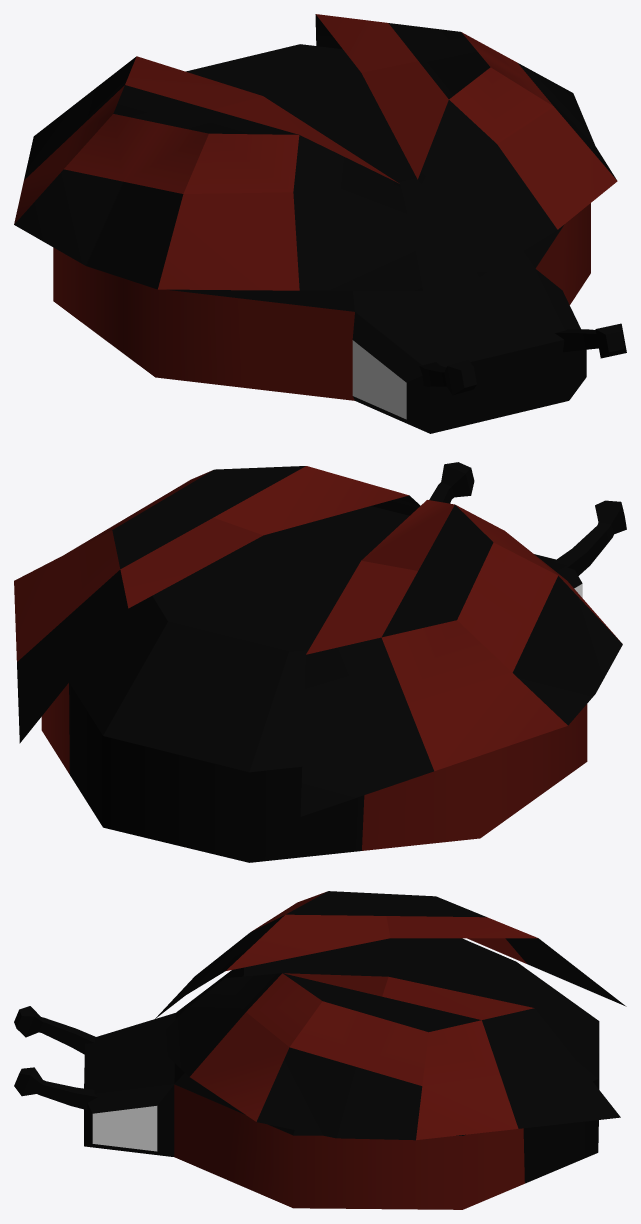
The model's file is LADYBIRD2.fbx.
3 views of the same model, one above another, from view 1: azimuth 30°, elevation 25°; view 2: azimuth 150°, elevation 25°; view 3: azimuth 270°, elevation 25° (orthographic). The views are drawn at different scales.
Parts seen in each view (by area): view 1: LadyBirdWing, Ladybird_KEYITEM; view 2: LadyBirdWing, Ladybird_KEYITEM; view 3: LadyBirdWing, Ladybird_KEYITEM.
Boxes of the visible parts, x1=… form: LadyBirdWing: x1=14, y1=14, x2=617, y2=290; Ladybird_KEYITEM: x1=53, y1=44, x2=626, y2=433; LadyBirdWing: x1=14, y1=466, x2=622, y2=816; Ladybird_KEYITEM: x1=41, y1=462, x2=626, y2=862; LadyBirdWing: x1=153, y1=891, x2=626, y2=1140; Ladybird_KEYITEM: x1=14, y1=938, x2=599, y2=1209.
Bounding box in the file's own units: 22.55 × 8.43 × 26.5.
